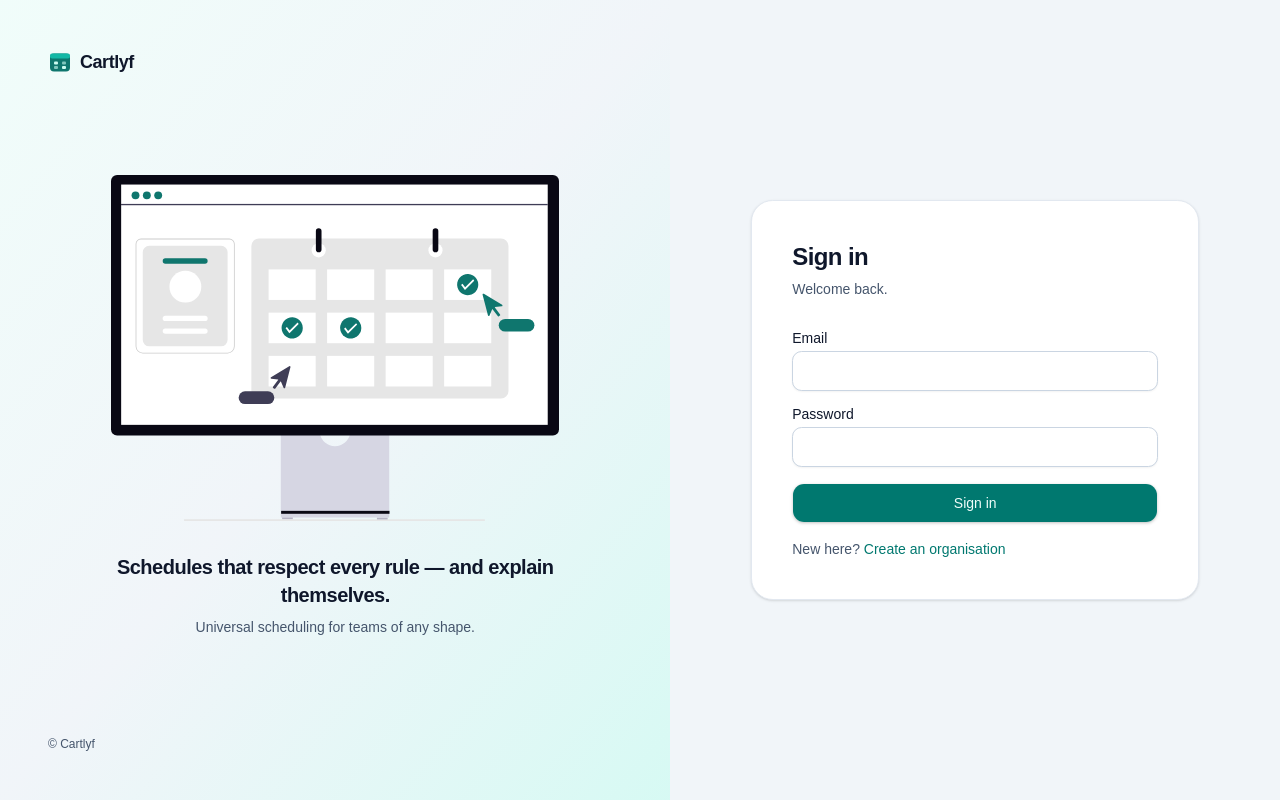
Test: LoginPage › explains an unconfirmed email
Type "a@b.co" into the field labelled "Email" at (975, 371), box [792,351,1158,391]
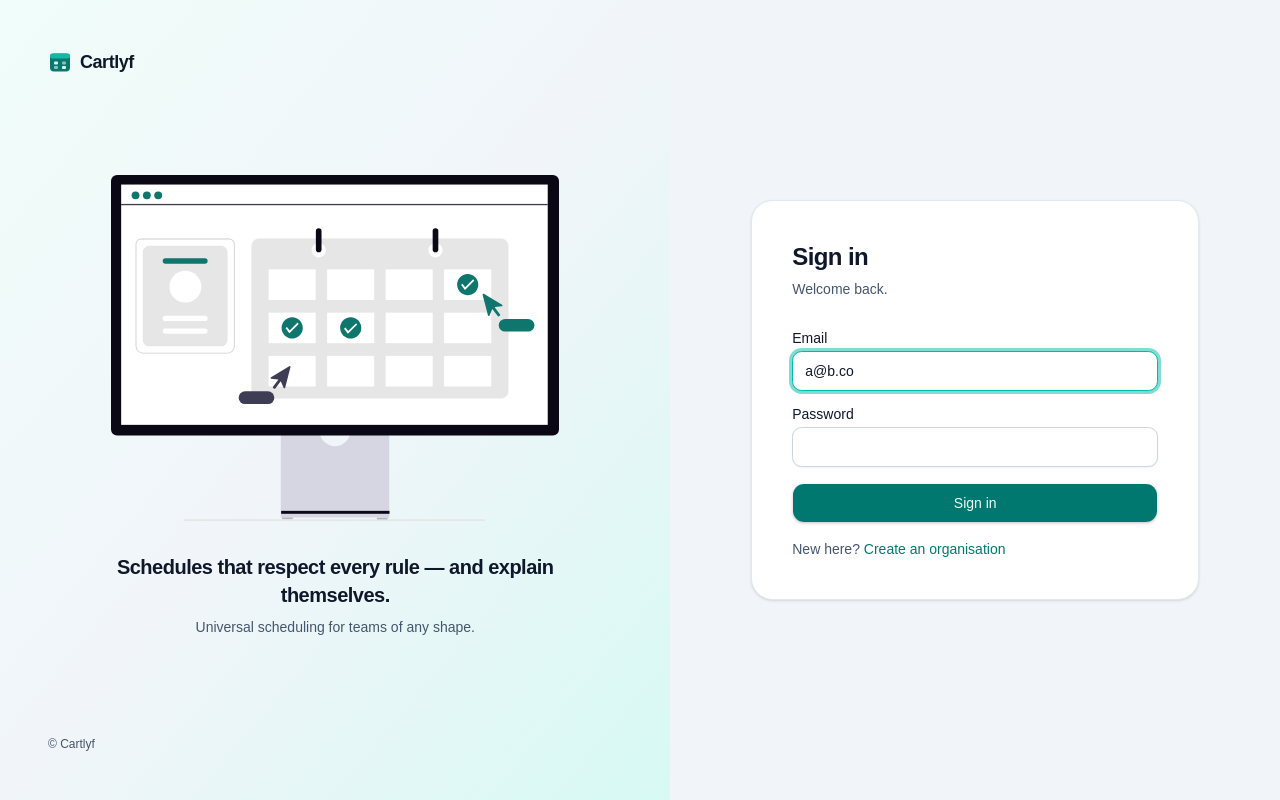
Type "whatever-long" into the password field labelled "Password" at (975, 447), box [792,427,1158,467]
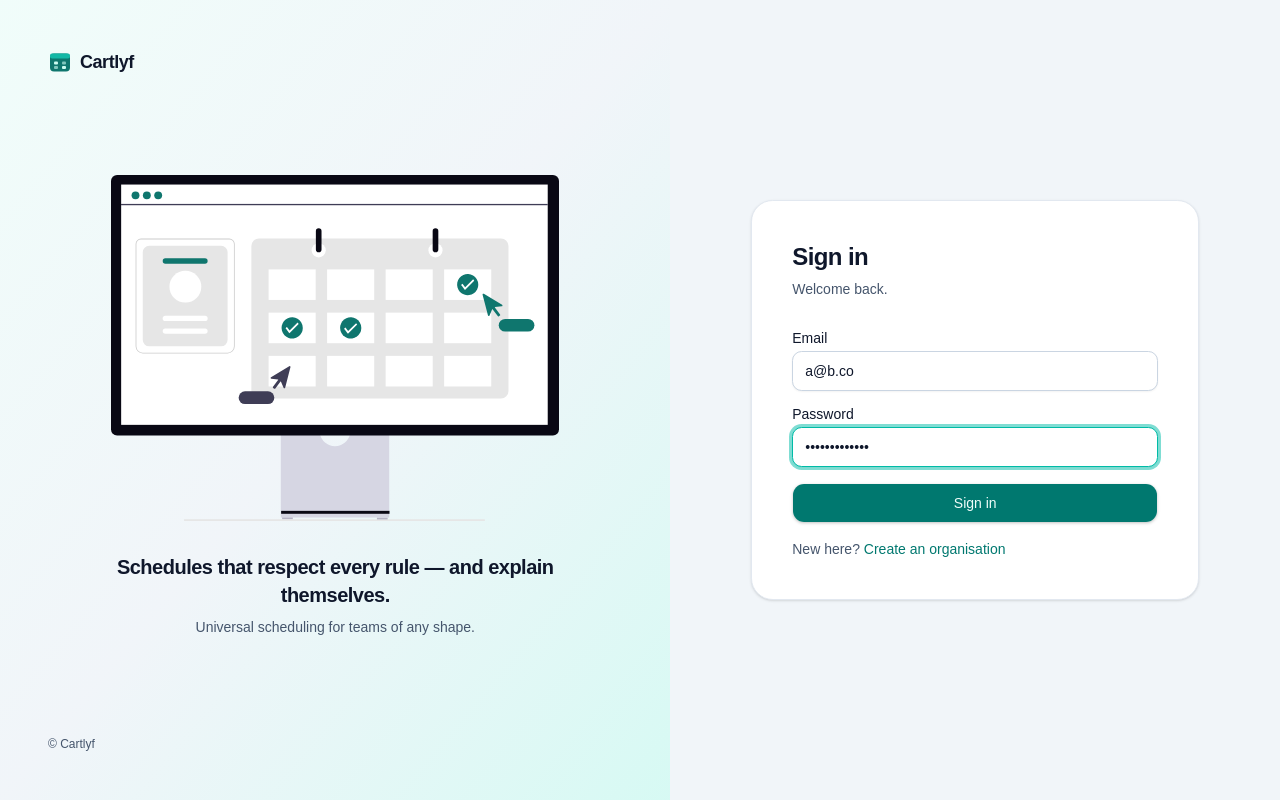
Click the button "Sign in" at (975, 503), box [792,483,1158,523]
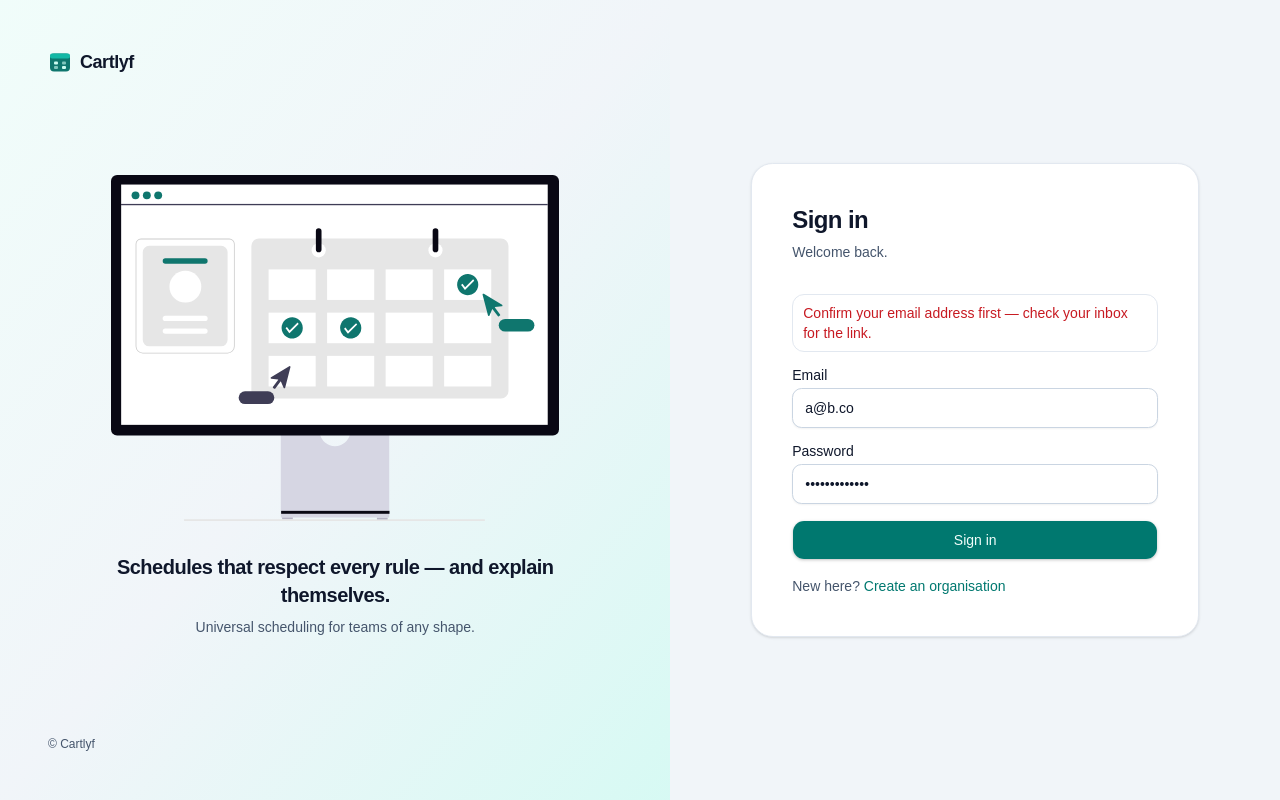
Result: the message shows "Confirm your email address first" at [803,305,1128,341]
